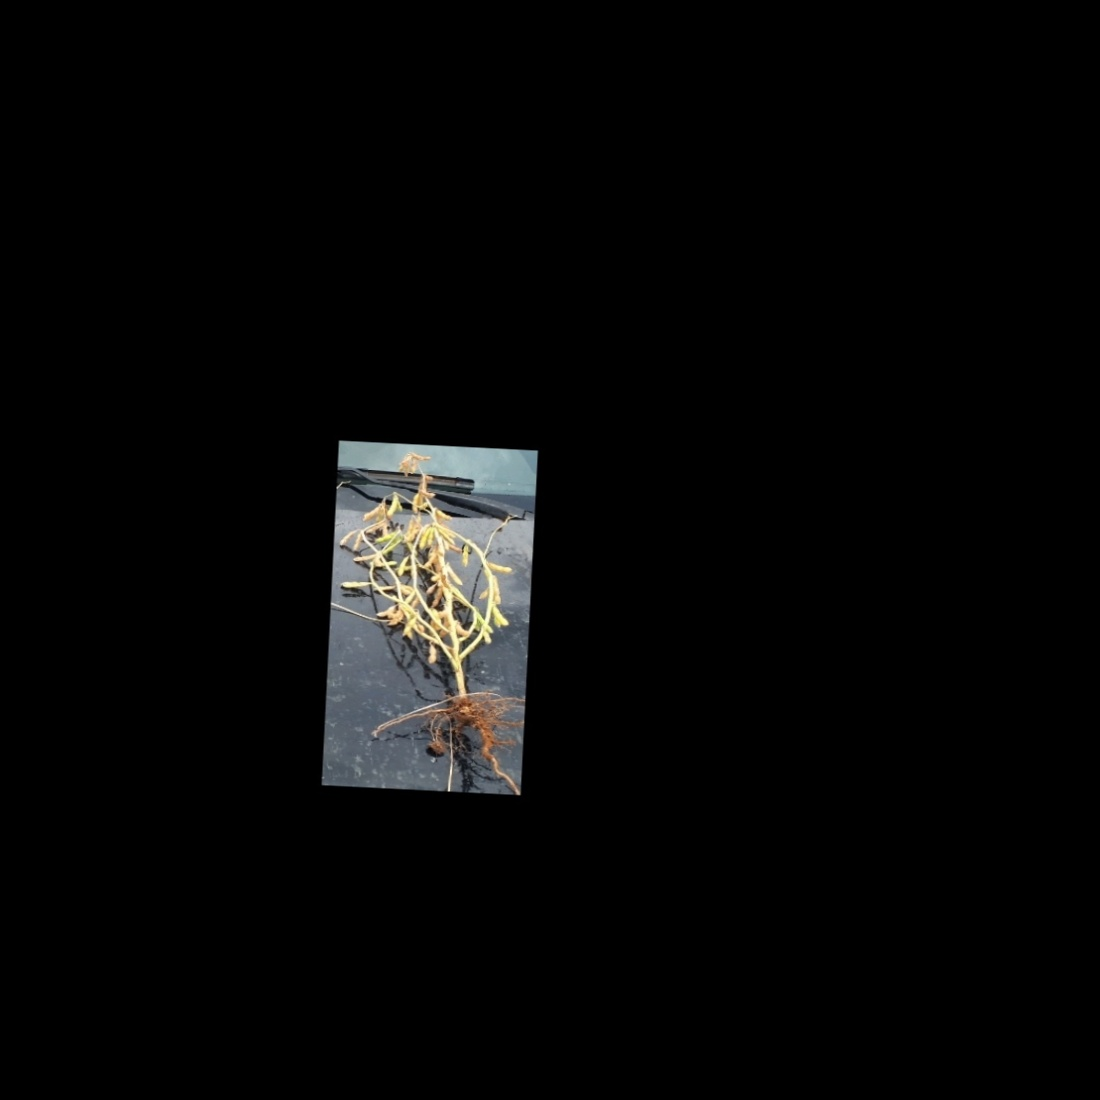pod: (491, 603, 512, 628), (445, 562, 464, 585), (339, 578, 371, 591), (486, 560, 514, 574), (424, 642, 439, 666), (350, 530, 365, 553), (386, 493, 398, 518), (434, 508, 455, 522)
soy: (322, 445, 527, 785)
